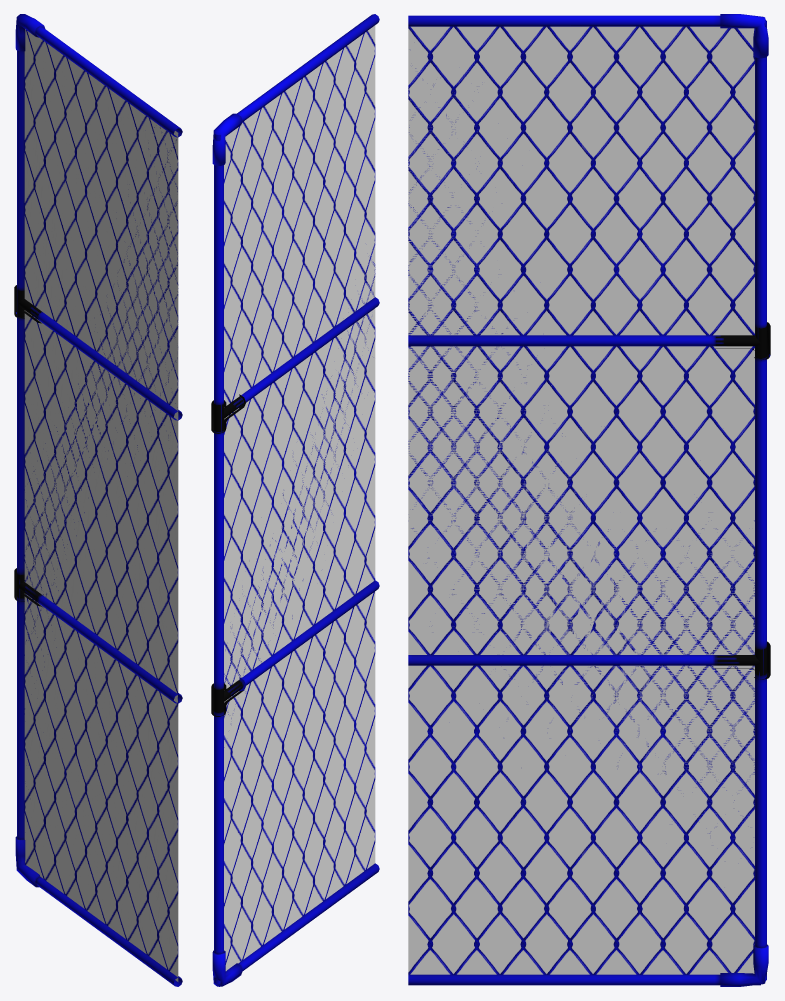
Rendered from school.fbx.
3 renders of one model, left to right at view 1: azimuth 30°, elevation 25°; view 2: azimuth 150°, elevation 25°; view 3: azimuth 270°, elevation 25°, orthographic. The views are drawn at different scales.
Parts seen in each view (by area): view 1: fence_wire; view 2: fence_wire; view 3: fence_wire.
Part boxes in pixels (x1,y1,x2,y2): fence_wire: (14,14,182,986); fence_wire: (211,14,379,986); fence_wire: (408,14,770,986).
Bounding box in the file's own units: 29.91 × 1826 × 616.
